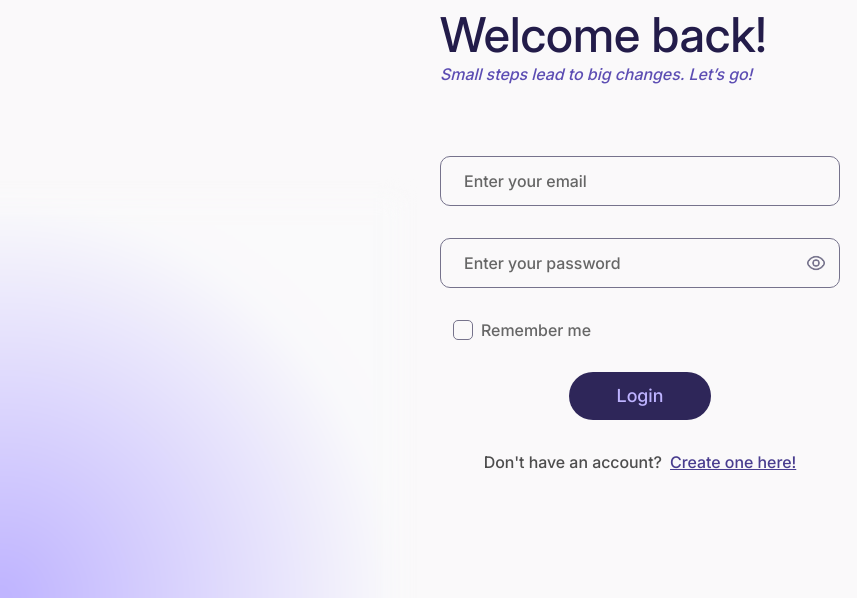
Scenario: Login Page Frontend Validations › should toggle password visibility when clicking eye icon
Step 1. Type "TestPassword123!" into the password field with test id "password_text_input" → coordinates (640, 263), box [440,238,840,288]
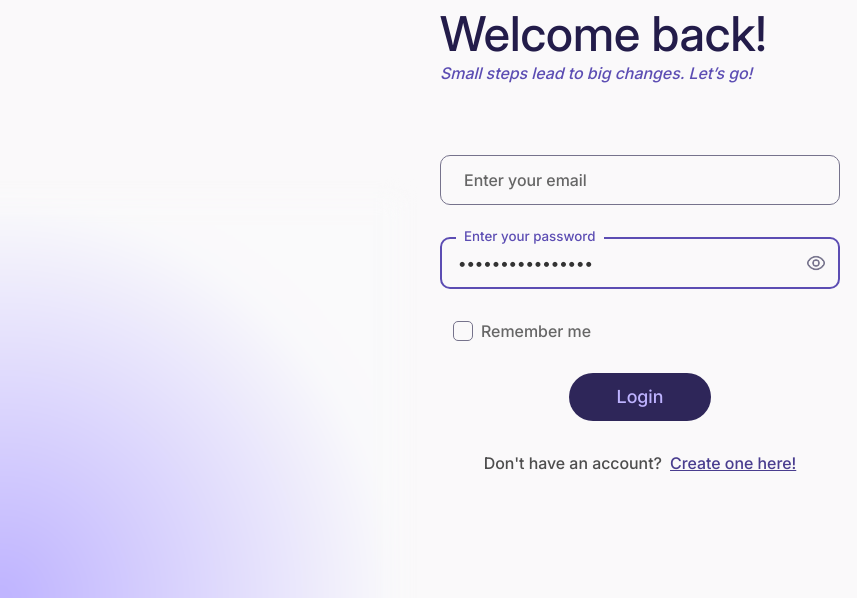
Step 2. Click the picture with id "toggle_password_icon" → coordinates (816, 263), box [807,254,825,272]
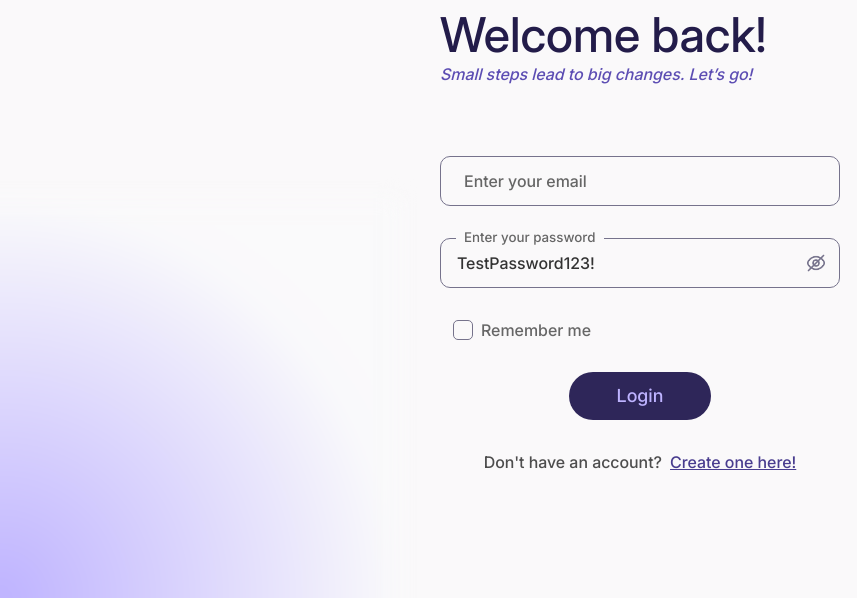
Expected: the field with test id "password_text_input" shows its text, [440,238,840,288]
